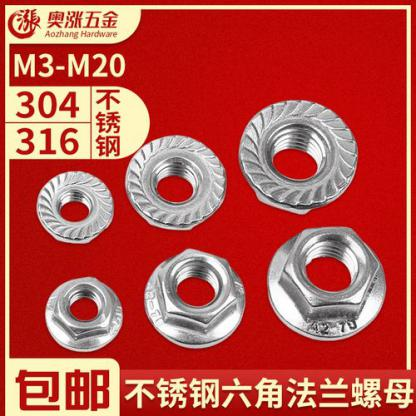FOD: (236, 92, 360, 214), (266, 226, 390, 344), (143, 247, 247, 353), (124, 134, 230, 230), (34, 168, 116, 246), (42, 276, 120, 353)
